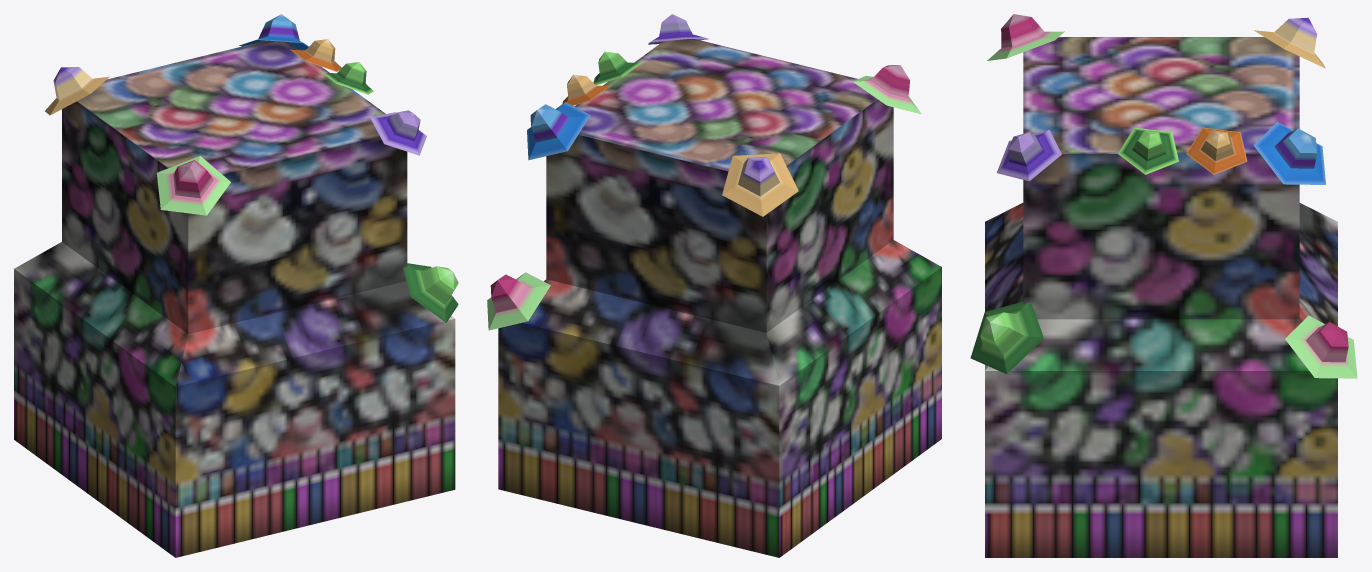
Rendered from Stall01.fbx.
3 renders of one model, left to right at view 1: azimuth 30°, elevation 25°; view 2: azimuth 150°, elevation 25°; view 3: azimuth 270°, elevation 25°, orthographic. The views are drawn at different scales.
Parts seen in each view (by area): view 1: Stall1:Stall1; view 2: Stall1:Stall1; view 3: Stall1:Stall1.
Boxes of the visible parts, x1,y1,x2,y2 form: Stall1:Stall1: (14,14,458,557); Stall1:Stall1: (487,14,941,557); Stall1:Stall1: (970,14,1357,557).
Bounding box in the file's own units: 0.9315 × 1.12 × 0.9488.
